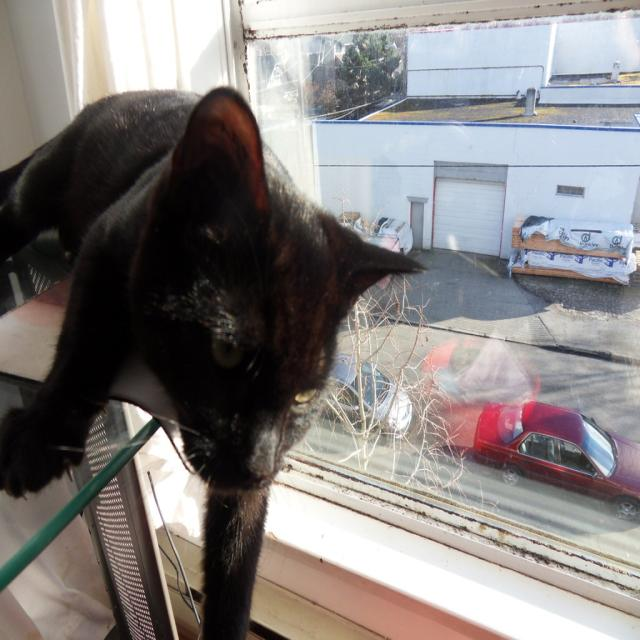Cat: (0, 86, 430, 638)
